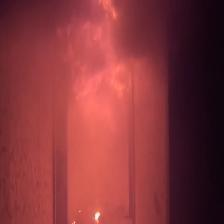fire: (54, 2, 134, 91), (84, 203, 109, 222)
